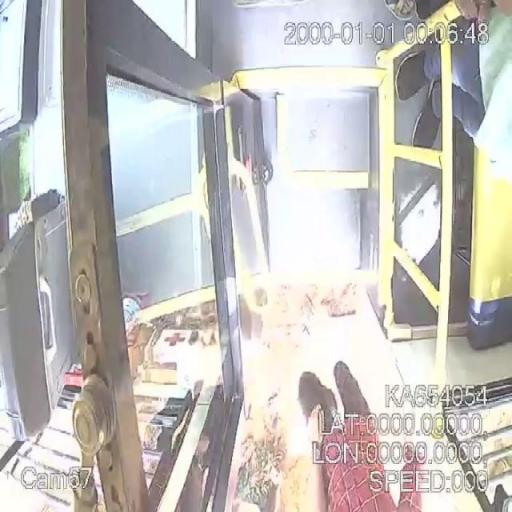persona: (296, 359, 426, 511)
